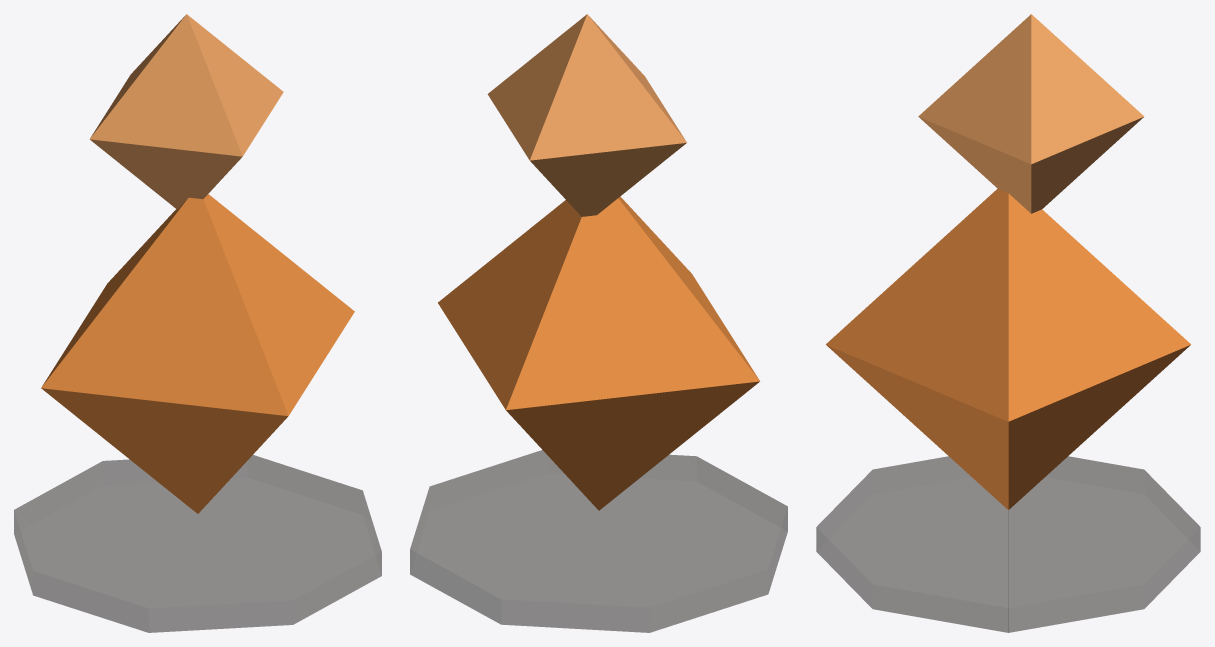
The model's file is player.obj.
The picture shows the model from 3 angles, left to right: view 1: azimuth 30°, elevation 25°; view 2: azimuth 150°, elevation 25°; view 3: azimuth 270°, elevation 25°; orthographic projection. The views are drawn at different scales.
Parts seen in each view (by area): view 1: Body, Shadow, Head; view 2: Body, Shadow, Head; view 3: Body, Shadow, Head.
Part boxes in pixels (x1,y1,x2,y2): Body: [41, 194, 354, 513]; Shadow: [14, 455, 381, 632]; Head: [89, 14, 283, 209]; Body: [438, 196, 759, 510]; Shadow: [410, 450, 787, 632]; Head: [487, 14, 686, 216]; Body: [826, 188, 1190, 509]; Shadow: [816, 456, 1200, 632]; Head: [918, 14, 1144, 213].
Bounding box in the file's own units: 0.336 × 0.519 × 0.336.
